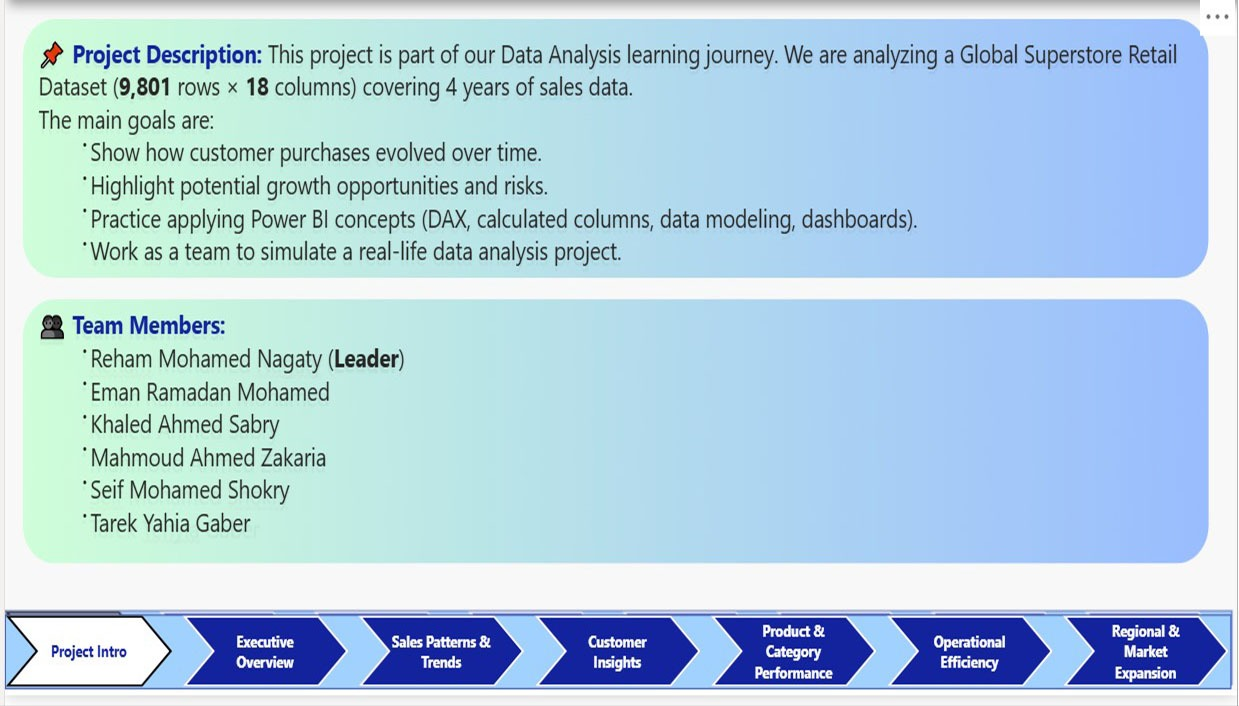

The dashboard page shown, as its layout file describes it:
{"tool":"powerbi","page":{"name":"Project Intro","canvas":[1280,720],"ordinal":0},"visuals":[{"type":"textbox","box":[0,0,1280,109.5],"z":0},{"type":"textbox","box":[29.6,140.3,1228.1,508.1],"z":1000},{"type":"pageNavigator","box":[0,650,1273.8,64.6],"z":2000}]}

Visuals, with their boxes in screenshot pixels (x1, y1, x2, y2), scaled from the page's 1280x720 canvas onto the 1239x706 screenshot:
textbox: left=0, top=0, right=1238, bottom=107
textbox: left=29, top=138, right=1217, bottom=636
pageNavigator: left=0, top=637, right=1233, bottom=701
